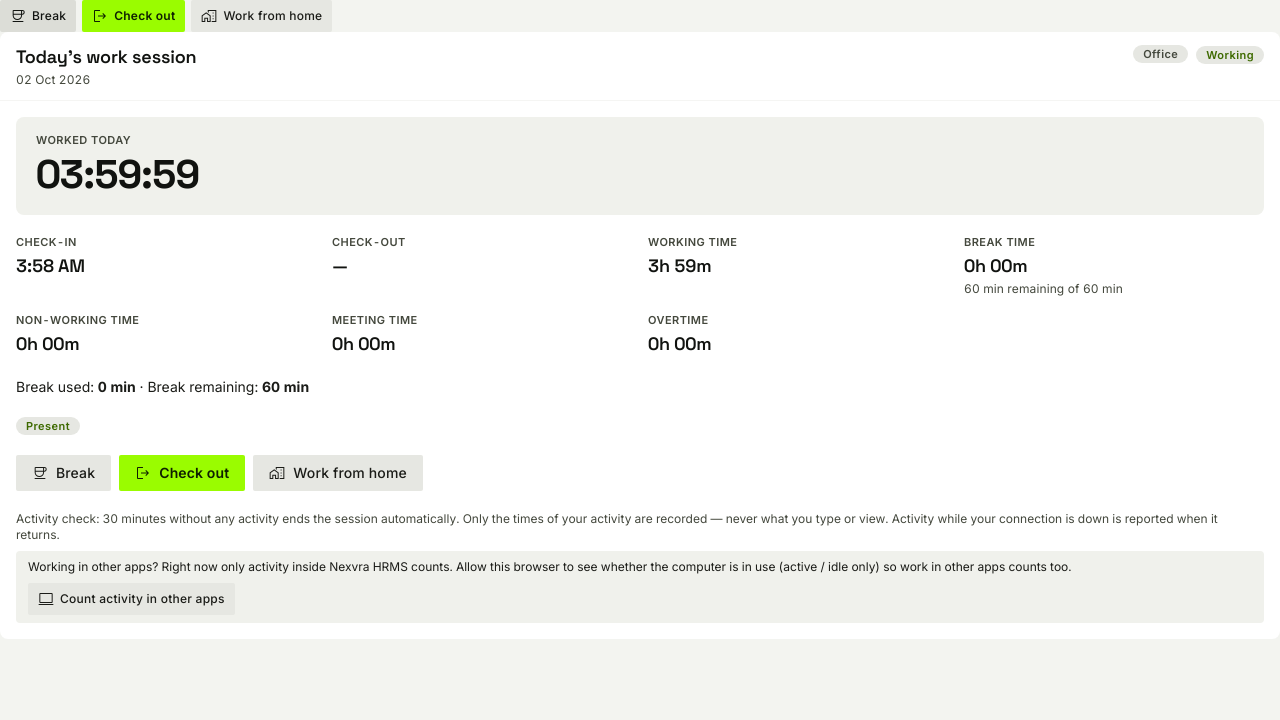
Test: WorkSessionCard › opens the popup when the server refuses checkout because of tasks
The image size is (1280, 720).
Click the button "Check out" below "Present" at point(182, 473), box [119,455,245,491]
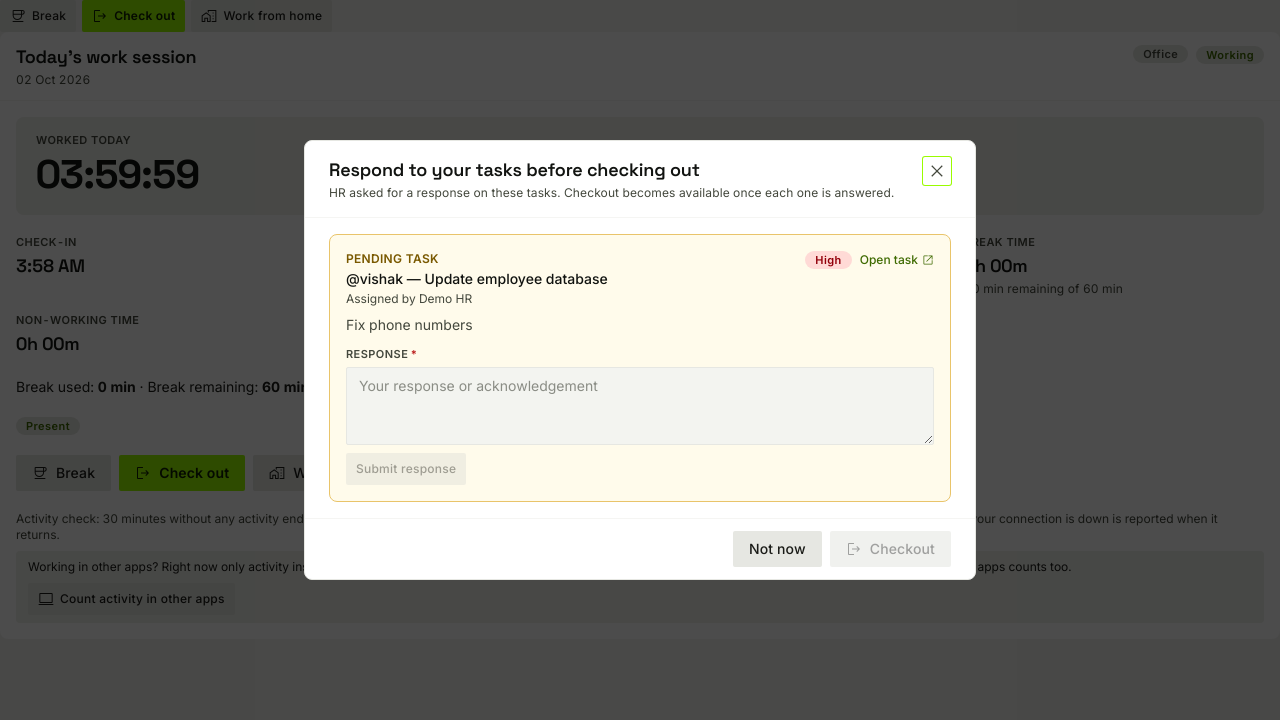
Expected: the dialog "Respond to your tasks" is shown, [304,140,976,580]
